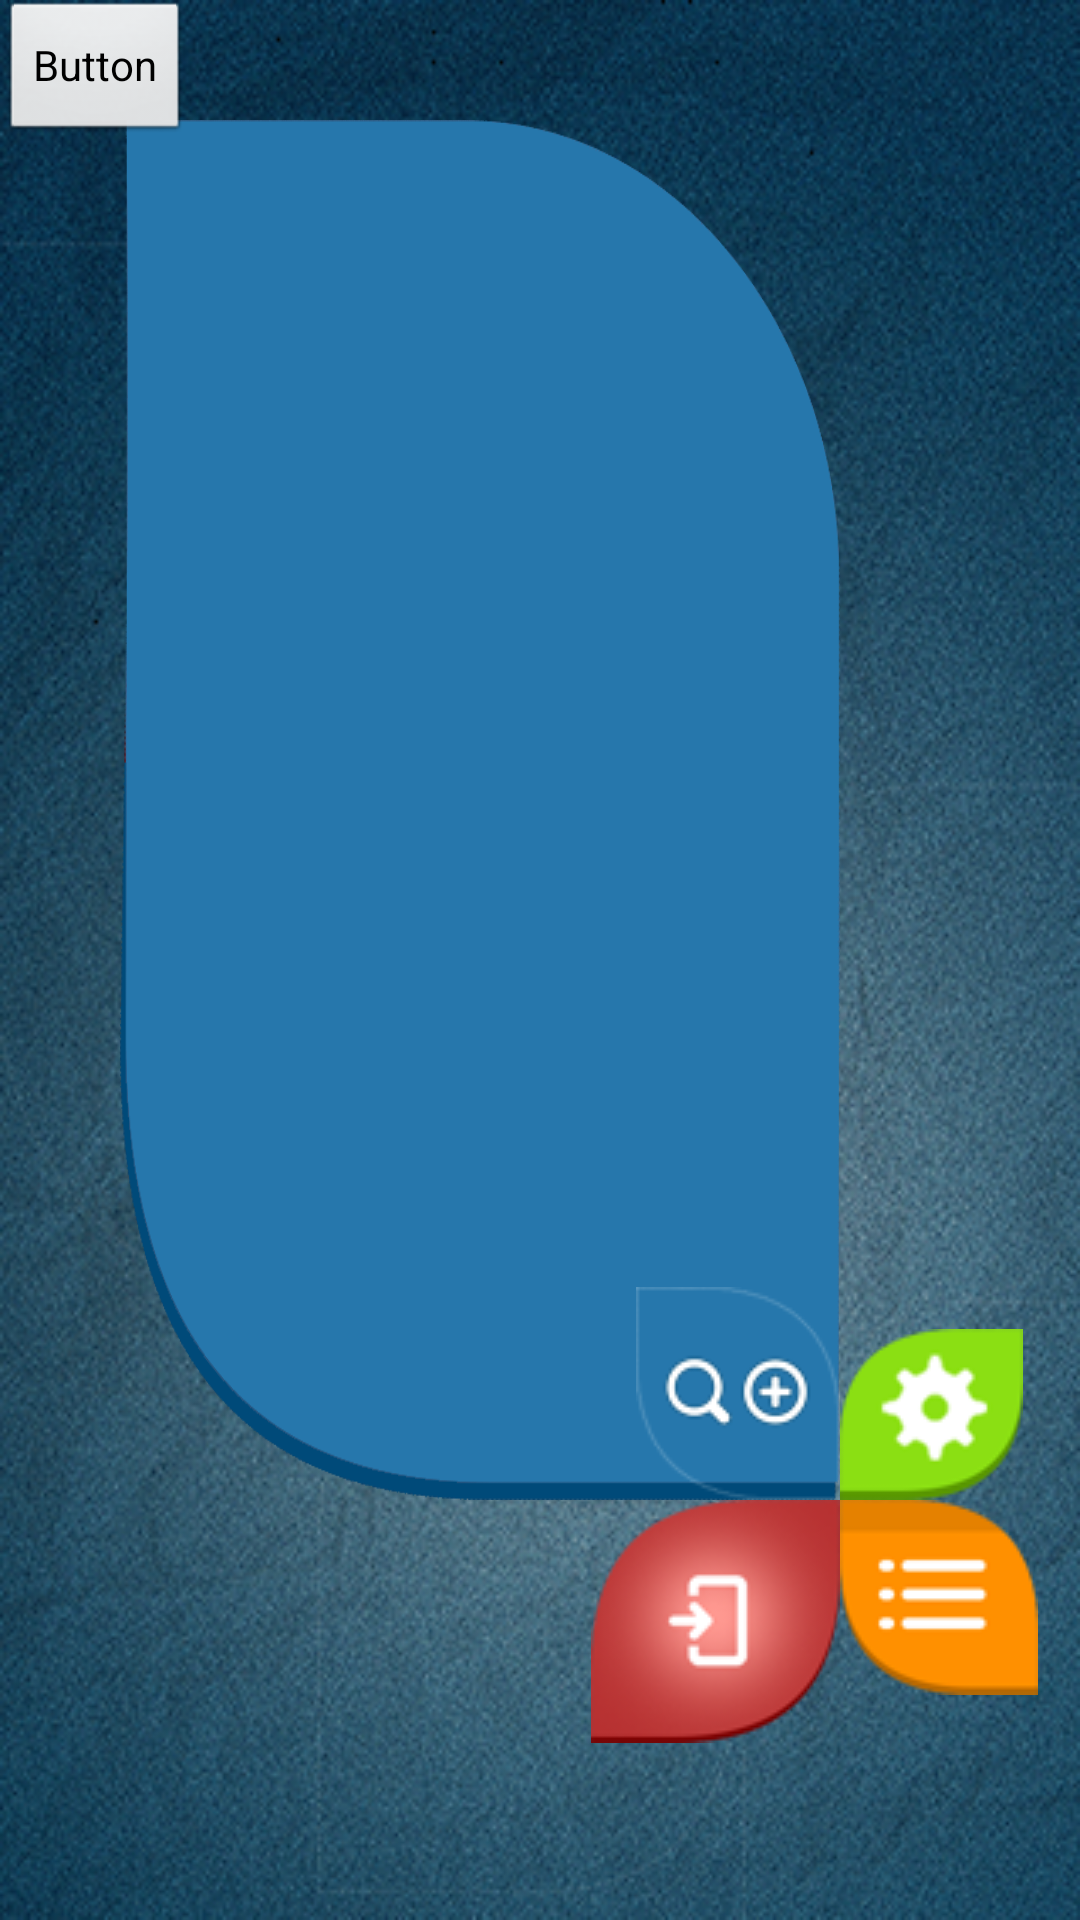

Point at icon controls on the screen. Image size 1080x1920, points as point (x, y).
menu: point (939, 1597)
settings: point (931, 1414)
